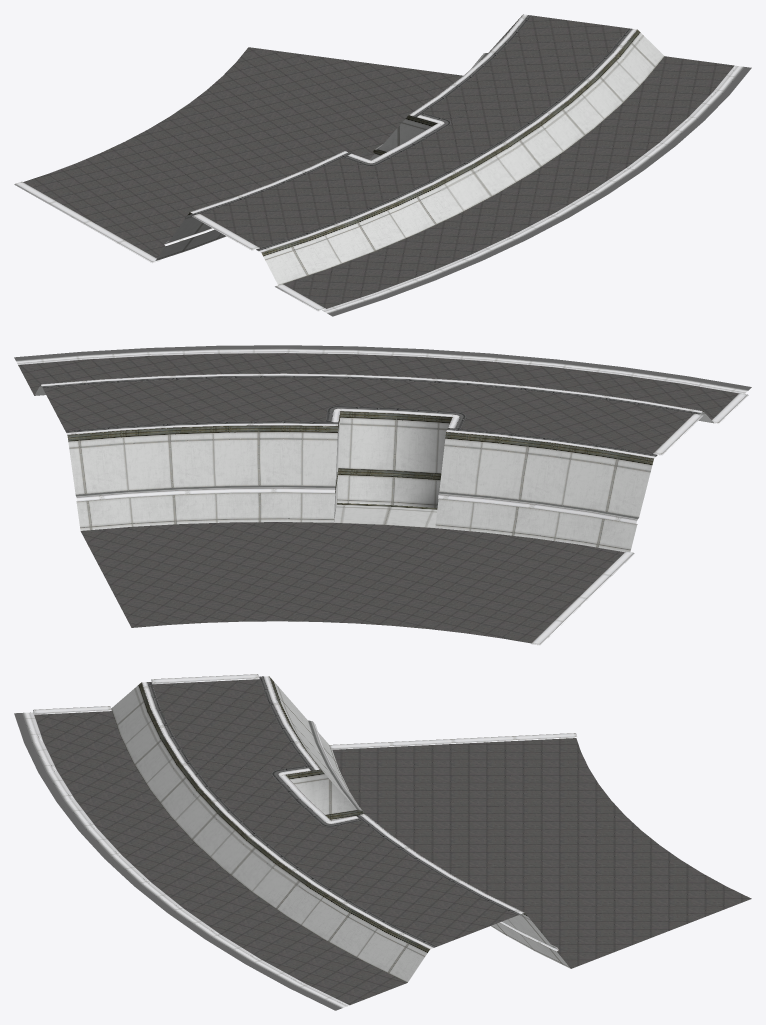
Rendered from Club_PromenadeFloor_02.FBX.
3 views of the same model, one above another, from view 1: azimuth 30°, elevation 25°; view 2: azimuth 150°, elevation 25°; view 3: azimuth 270°, elevation 25° (orthographic). The views are drawn at different scales.
Visible parts, largest first — view 1: Club_PromenadeFloor_02; view 2: Club_PromenadeFloor_02; view 3: Club_PromenadeFloor_02.
Boxes of the visible parts, x1,y1,x2,y2 form: Club_PromenadeFloor_02: (14, 14, 751, 316); Club_PromenadeFloor_02: (14, 345, 751, 645); Club_PromenadeFloor_02: (14, 674, 751, 1010).
Size of the model in its own units: 42.5 by 4.55 by 40.54.
